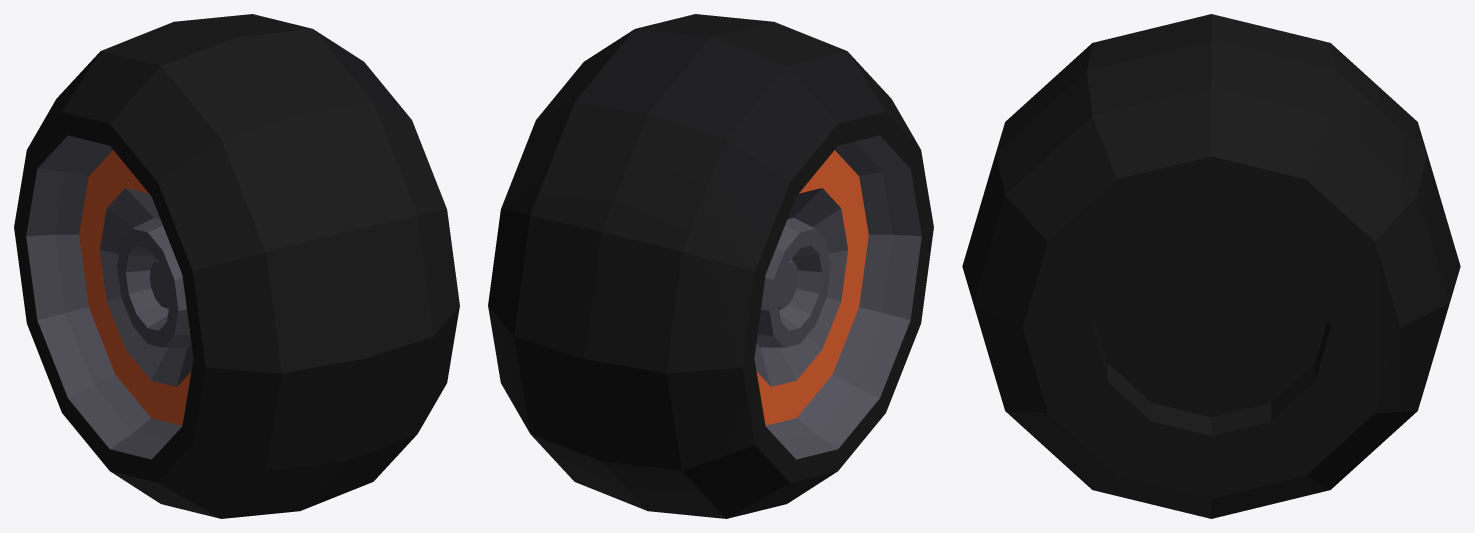
The model's file is wheel.obj.
3 renders of one model, left to right at view 1: azimuth 30°, elevation 25°; view 2: azimuth 150°, elevation 25°; view 3: azimuth 270°, elevation 25°, orthographic.
Parts seen in each view (by area): view 1: wheel.obj; view 2: wheel.obj; view 3: wheel.obj.
Boxes of the visible parts, bbox=[...] form: wheel.obj: bbox=[14, 14, 459, 518]; wheel.obj: bbox=[488, 14, 933, 518]; wheel.obj: bbox=[962, 14, 1460, 518].
Bounding box in the file's own units: 0.5496 × 0.9464 × 0.9464.
